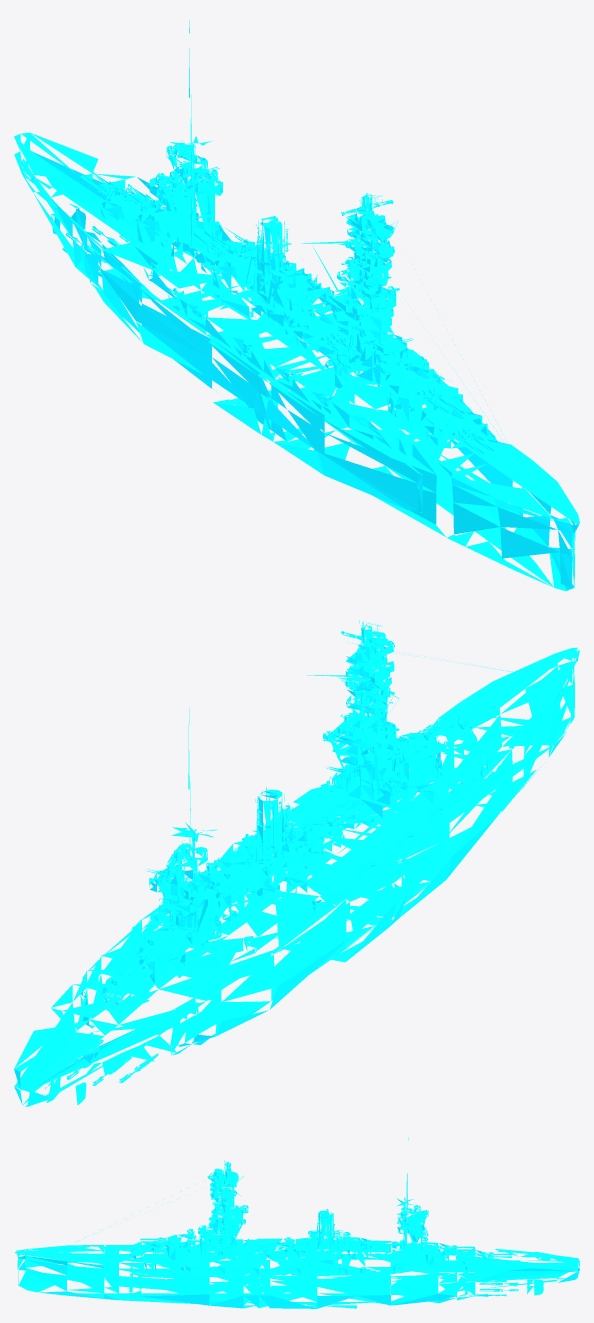
Rendered from PJSB006.glb.
3 views of the same model, one above another, from view 1: azimuth 30°, elevation 25°; view 2: azimuth 150°, elevation 25°; view 3: azimuth 270°, elevation 25° (orthographic). The views are drawn at different scales.
Visible parts, largest first — view 1: hull_mid, hull_bow, hull_stern, main_battery, secondary_battery, superstructure; view 2: hull_mid, hull_stern, hull_bow, main_battery, secondary_battery, superstructure; view 3: hull_mid, hull_bow, hull_stern, main_battery, secondary_battery, superstructure.
Boxes of the visible parts, left/top/right/bottom form: hull_mid: left=85, top=20, right=512, bottom=536; hull_bow: left=412, top=264, right=579, bottom=591; hull_stern: left=14, top=132, right=198, bottom=290; main_battery: left=81, top=171, right=494, bottom=455; secondary_battery: left=140, top=166, right=471, bottom=432; superstructure: left=169, top=140, right=399, bottom=305; hull_mid: left=87, top=637, right=512, bottom=1052; hull_stern: left=14, top=971, right=198, bottom=1106; hull_bow: left=346, top=642, right=579, bottom=811; main_battery: left=82, top=703, right=494, bottom=1016; secondary_battery: left=140, top=766, right=471, bottom=952; superstructure: left=170, top=620, right=399, bottom=875; hull_mid: left=119, top=1137, right=456, bottom=1308; hull_bow: left=15, top=1180, right=211, bottom=1300; hull_stern: left=456, top=1248, right=579, bottom=1300; main_battery: left=104, top=1229, right=511, bottom=1262; secondary_battery: left=169, top=1224, right=421, bottom=1273; superstructure: left=213, top=1160, right=420, bottom=1231.
Size of the model in its own units: 2.19 by 4.33 by 14.16.
